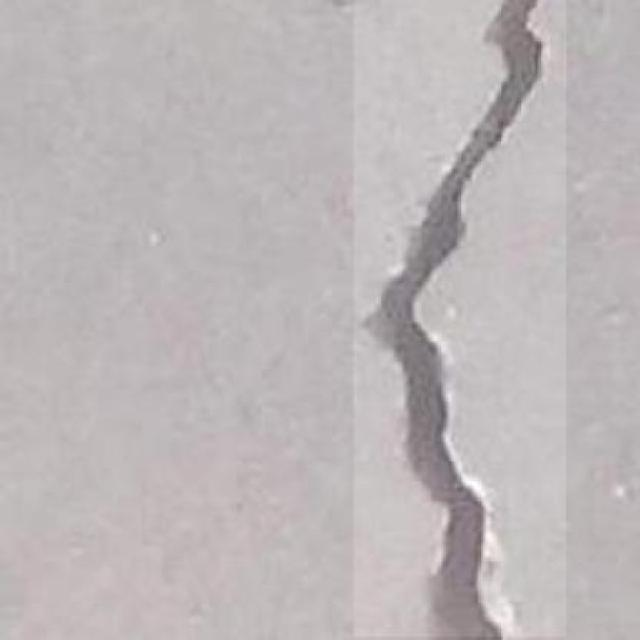Crack: (360, 0, 584, 640)
